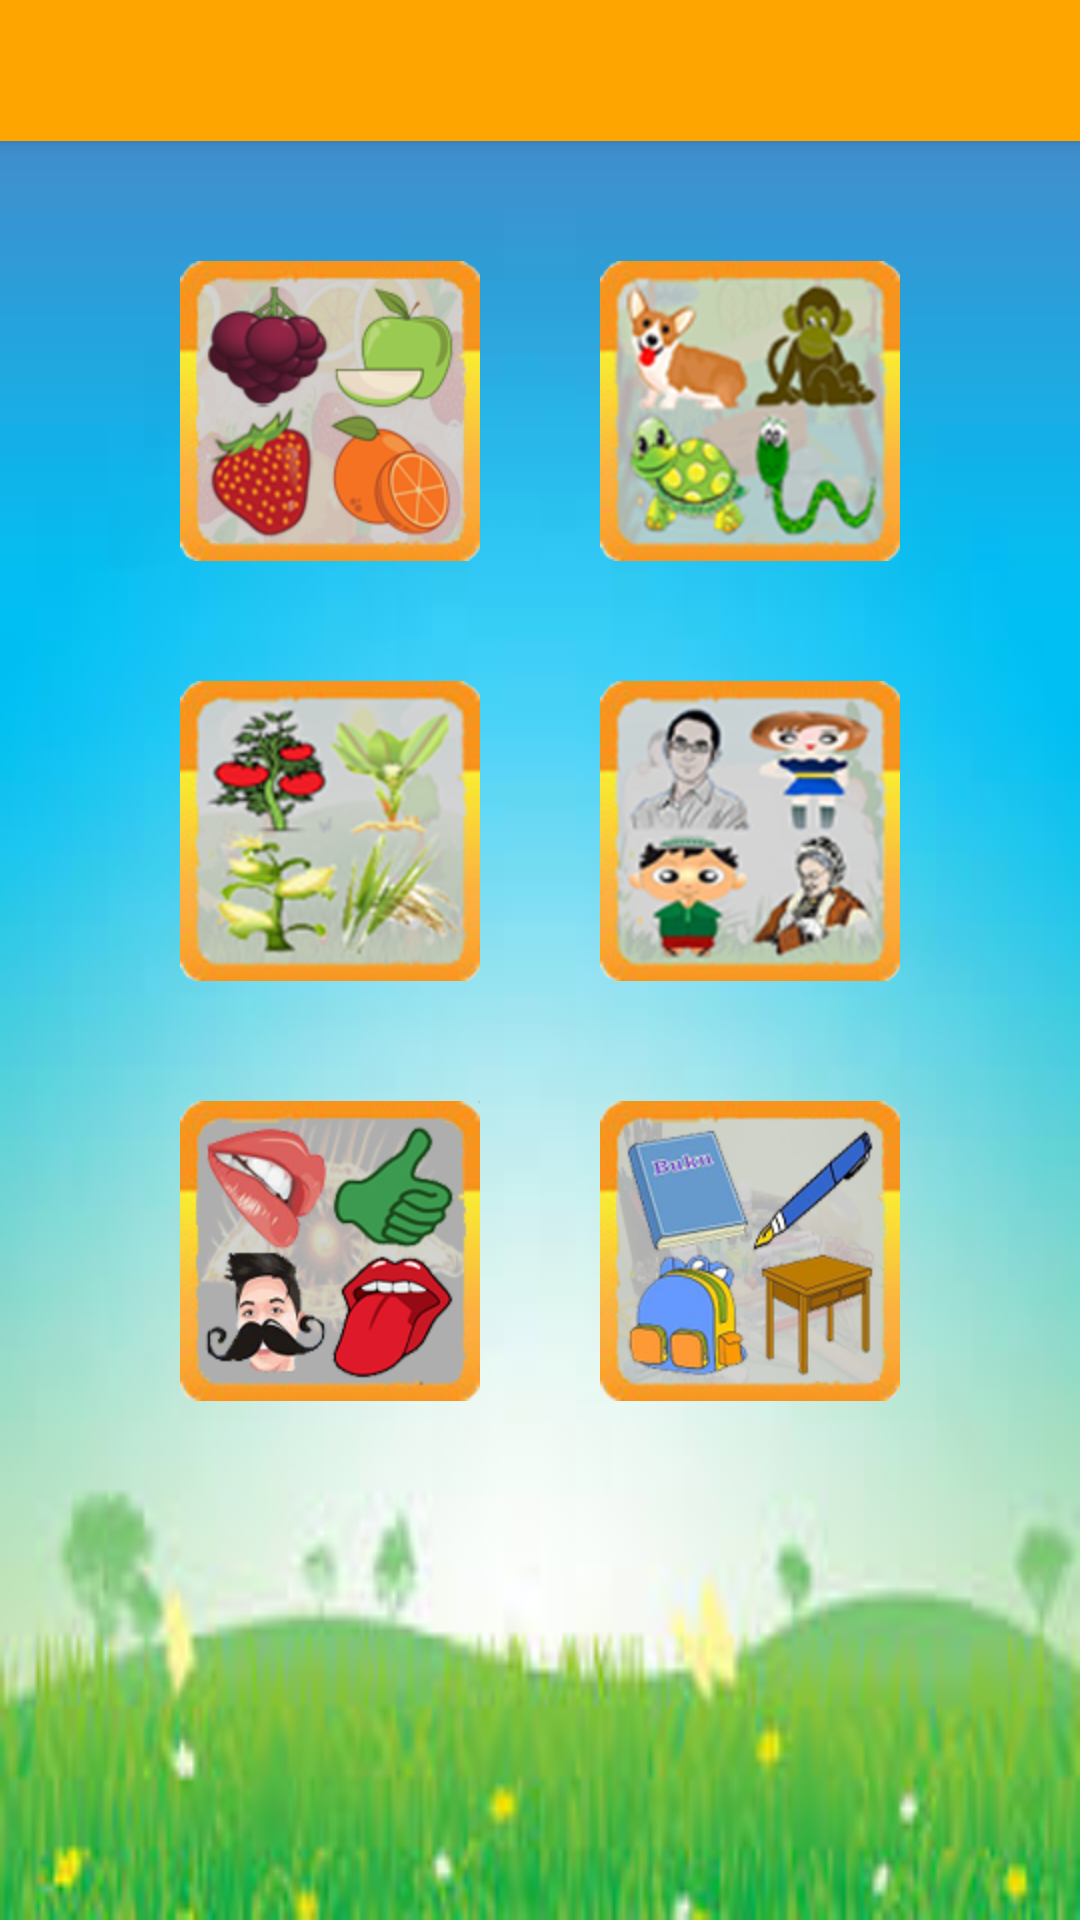

Named icons in this screenshot (1080px×1920px) and their centers, (x,y):
kategori alat sekolah: (750,1251)
kategori anggota badan: (330,1251)
kategoribinatang: (750,411)
kategoribuah: (330,411)
kategorikeluarga: (750,831)
kategoritumbuhan: (330,831)
